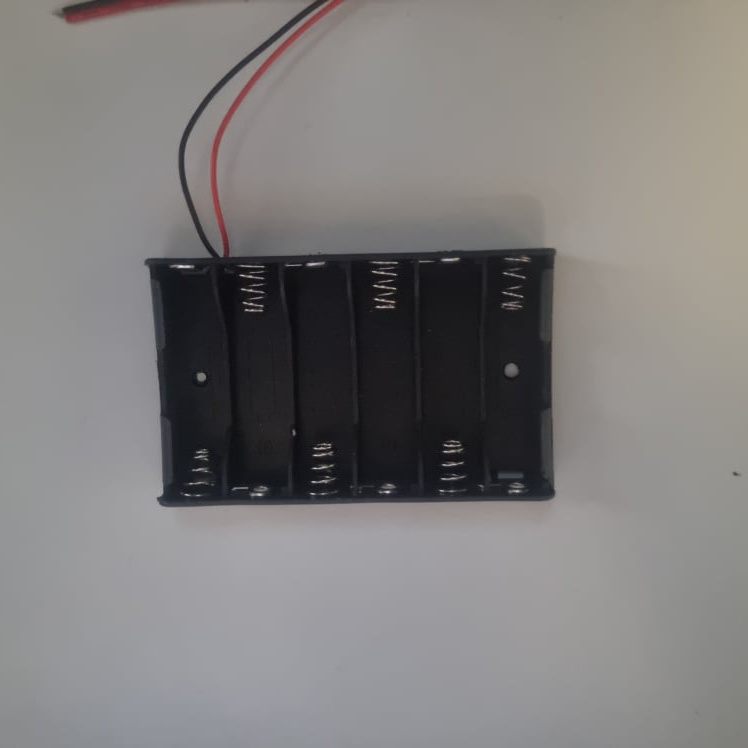BATTERY BOX: (144, 250, 559, 508)
